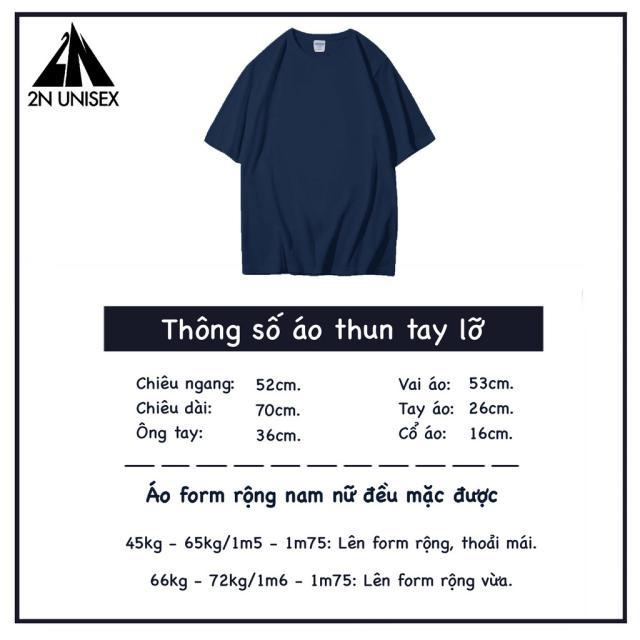Shirt: (198, 27, 446, 286)
